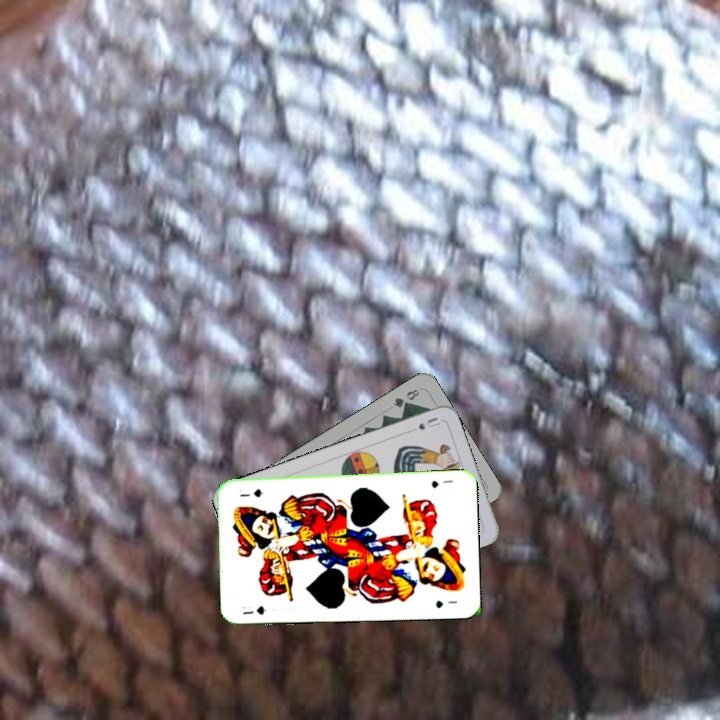G8: (389, 385, 422, 410)
GU: (238, 602, 268, 617), (428, 476, 455, 490)
SU: (414, 413, 443, 433)
